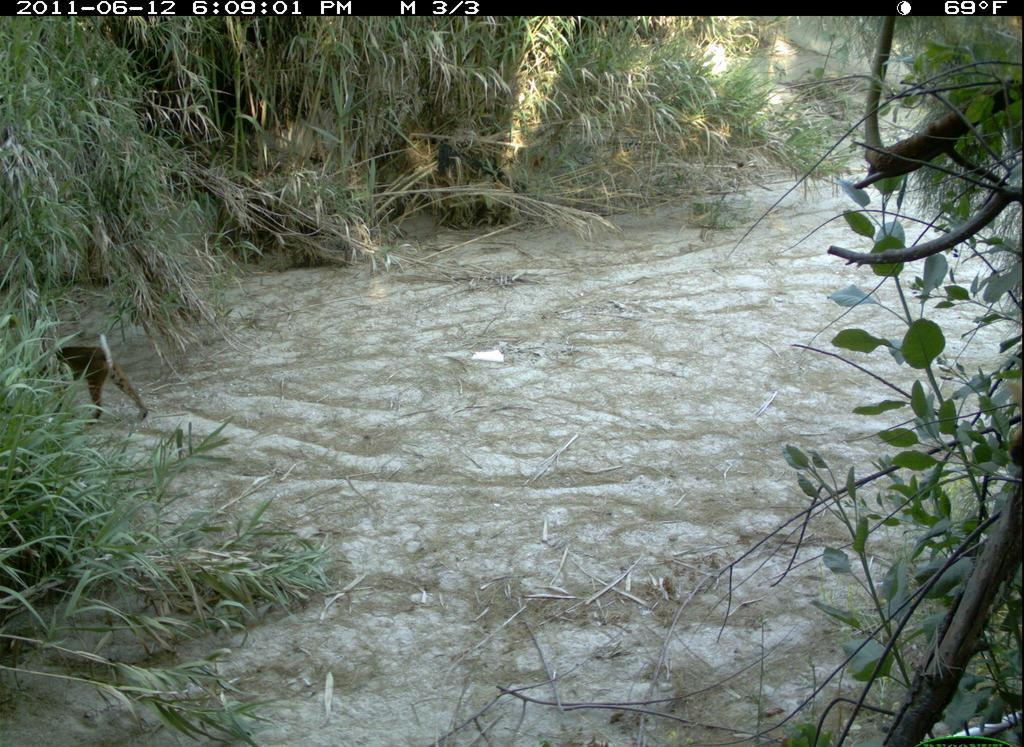bobcat: (18, 336, 155, 431)
